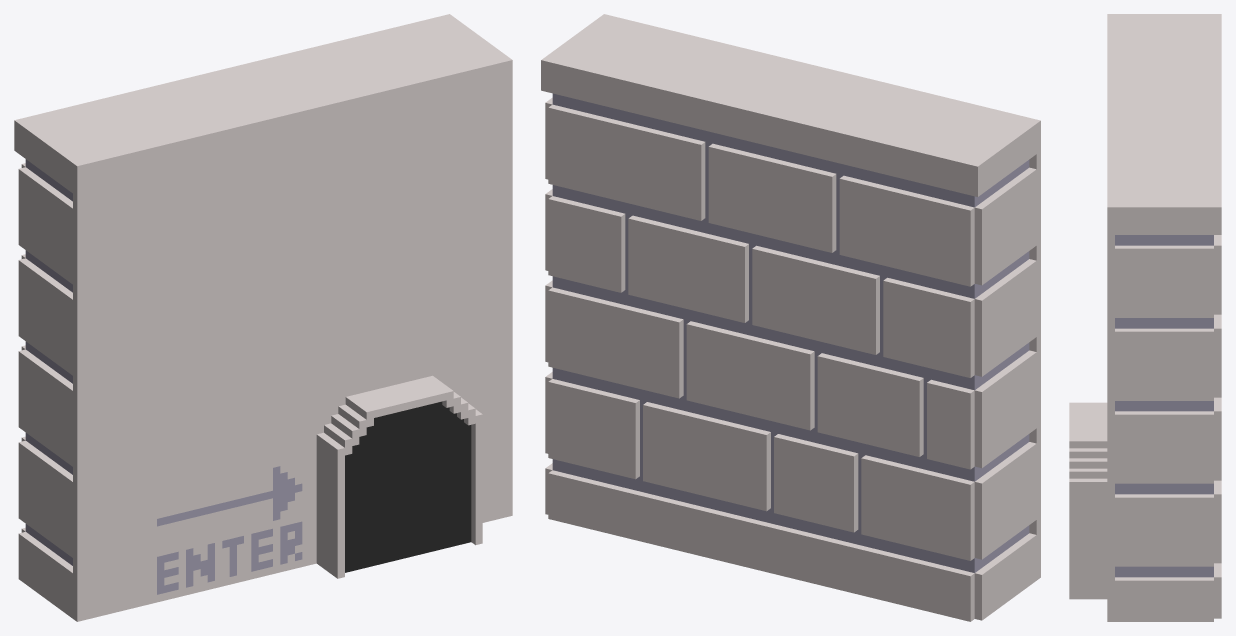
File: WallHole.obj
3 renders of one model, left to right at view 1: azimuth 30°, elevation 25°; view 2: azimuth 150°, elevation 25°; view 3: azimuth 270°, elevation 25°, orthographic. The views are drawn at different scales.
Size of the model in its own units: 6 by 6 by 2.
1 material, 1 textured.
